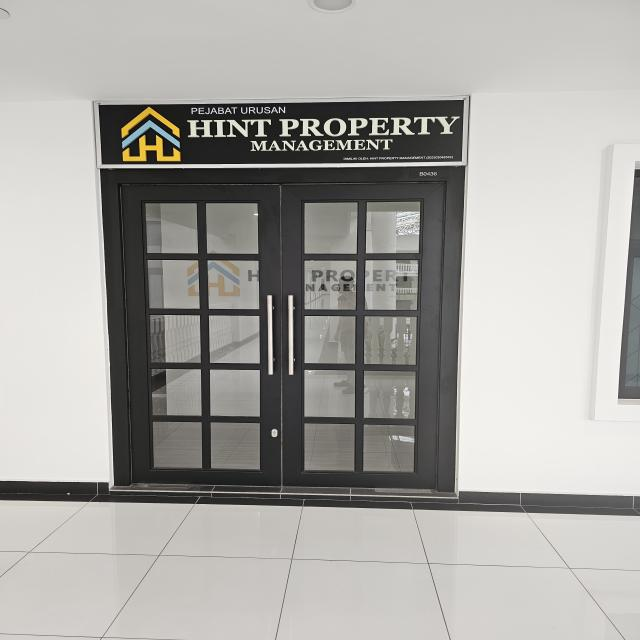door: (97, 164, 469, 499)
footpath: (1, 496, 638, 638)
